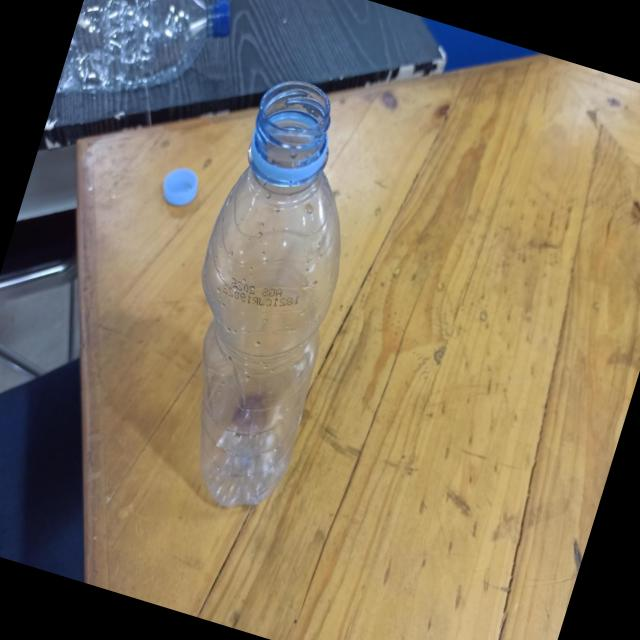BotolPlastik: (136, 66, 400, 522), (49, 0, 241, 154)
